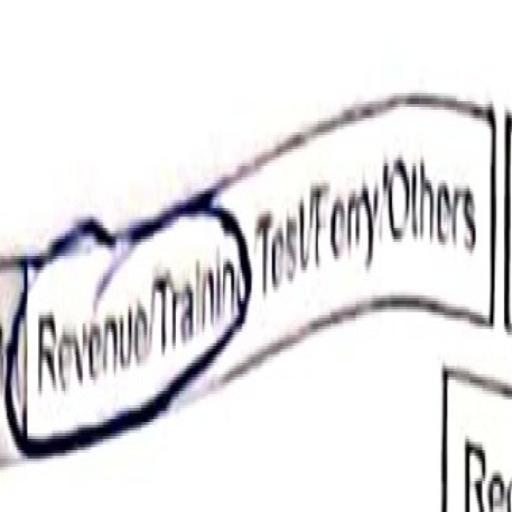check: (20, 191, 147, 500), (152, 166, 254, 476)
